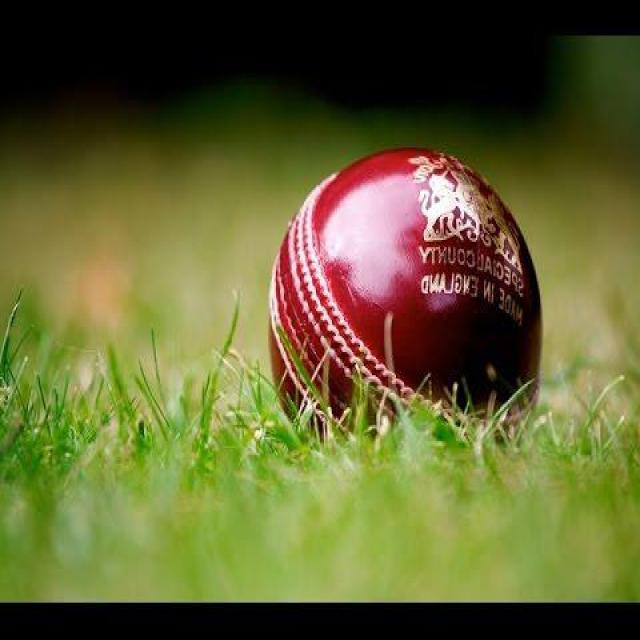ball: (269, 150, 539, 453)
